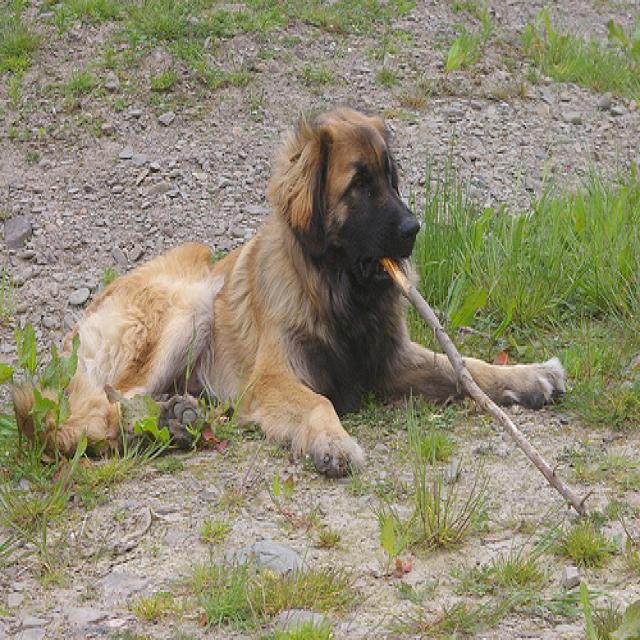dog-leonberger: (15, 102, 456, 479)
